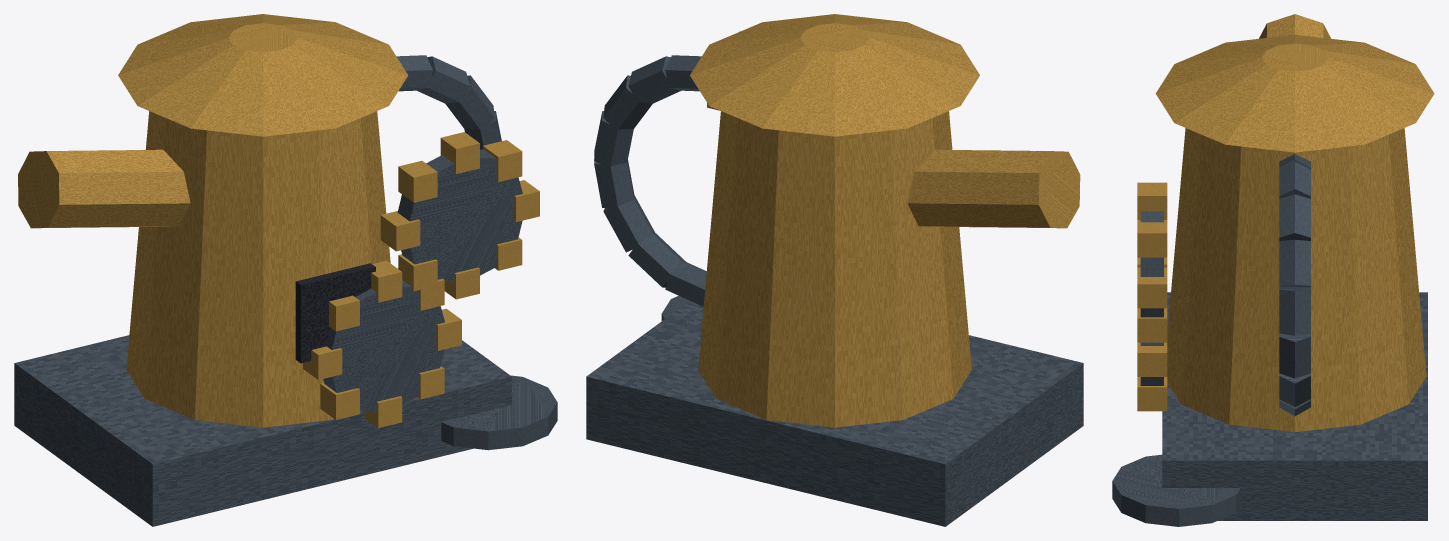
Rendered from repair_machine_broken.glb.
3 views of the same model, side by side, from view 1: azimuth 30°, elevation 25°; view 2: azimuth 150°, elevation 25°; view 3: azimuth 270°, elevation 25° (orthographic). The views are drawn at different scales.
Parts seen in each view (by area): view 1: kettle, base, lid, gear (×2), tooth (×16), spout, fallen_gear, missing_panel, handle2, handle1, handle3; view 2: kettle, base, lid, spout, handle14, handle13, handle2, handle15, handle1, handle0, handle12, handle3; view 3: kettle, base, lid, tooth (×6), fallen_gear, handle0, handle1, handle2, handle15, spout, handle3, gear (+1 smaller).
Part boxes in pixels (x1,y1,x2,y2): kettle: (126, 111, 390, 427); base: (14, 335, 511, 526); lid: (118, 14, 408, 136); gear (×2): (323, 149, 522, 410); tooth (×16): (303, 132, 539, 427); spout: (18, 149, 190, 228); fallen_gear: (441, 375, 557, 450); missing_panel: (295, 263, 375, 363); handle2: (417, 56, 469, 103); handle1: (445, 75, 494, 129); handle3: (396, 55, 432, 91); kettle: (698, 111, 971, 427); base: (586, 301, 1083, 526); lid: (690, 14, 979, 136); spout: (907, 149, 1080, 228); handle14: (603, 195, 654, 252); handle13: (628, 233, 685, 287); handle2: (628, 56, 680, 103); handle15: (594, 160, 634, 208); handle1: (603, 75, 652, 129); handle0: (594, 111, 633, 167); handle12: (665, 261, 706, 306); handle3: (665, 55, 701, 91); kettle: (1167, 128, 1426, 431); base: (1162, 292, 1427, 520); lid: (1155, 34, 1434, 152); tooth (×6): (1137, 184, 1167, 411); fallen_gear: (1112, 454, 1240, 526); handle0: (1279, 287, 1310, 335); handle1: (1279, 239, 1310, 287); handle2: (1279, 194, 1310, 240); handle15: (1279, 333, 1310, 378); spout: (1259, 14, 1330, 38); handle3: (1279, 162, 1310, 198); gear: (1140, 211, 1163, 317).
Size of the model in its own units: 1.58 by 1.26 by 0.97.
Materials: 1 (1 with a texture image).
